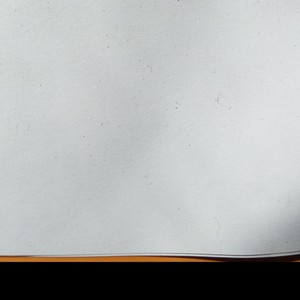base: (1, 1, 298, 254)
